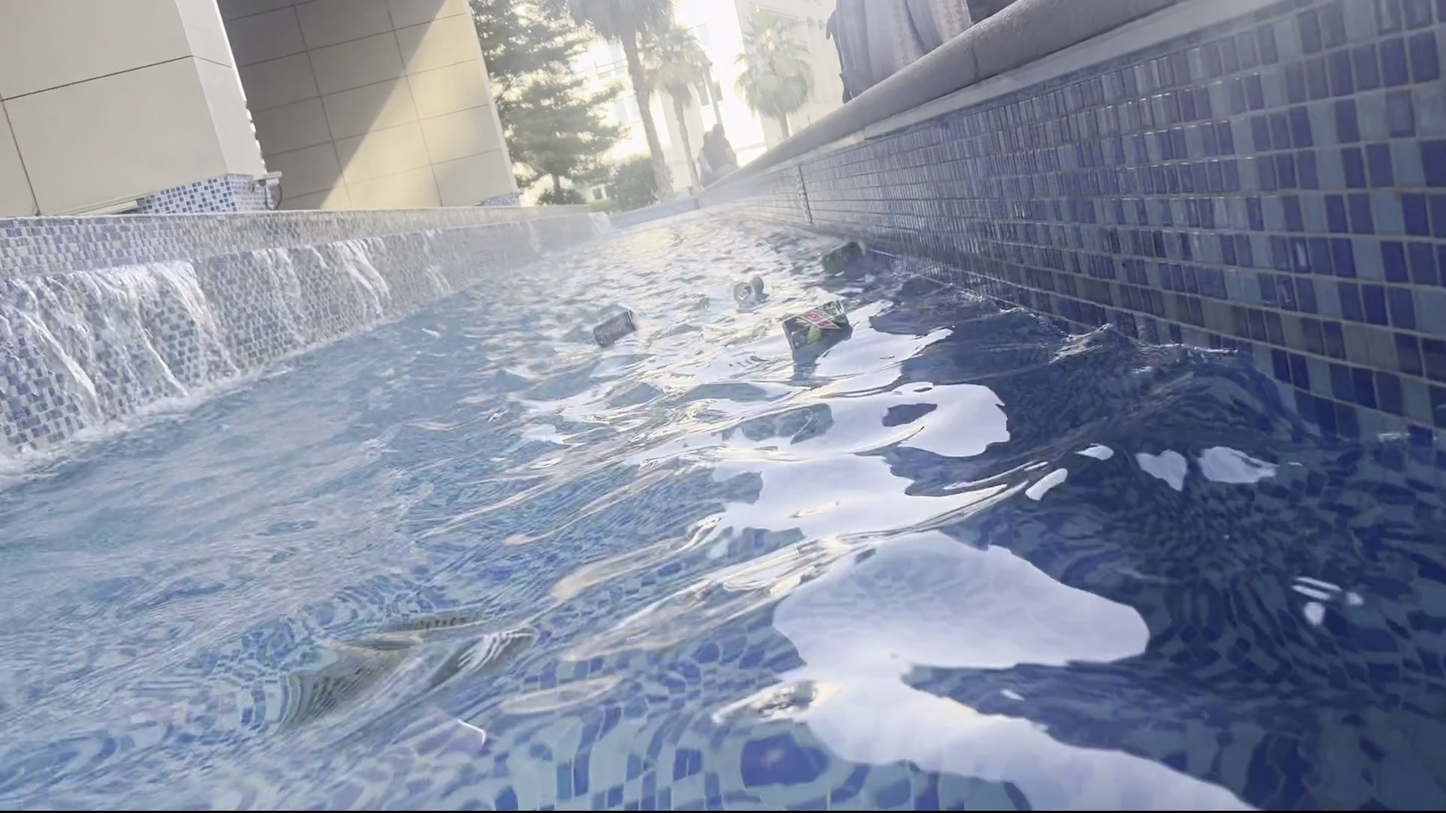debris: (781, 294, 853, 354), (588, 303, 639, 350), (817, 232, 866, 279), (728, 268, 767, 310)
